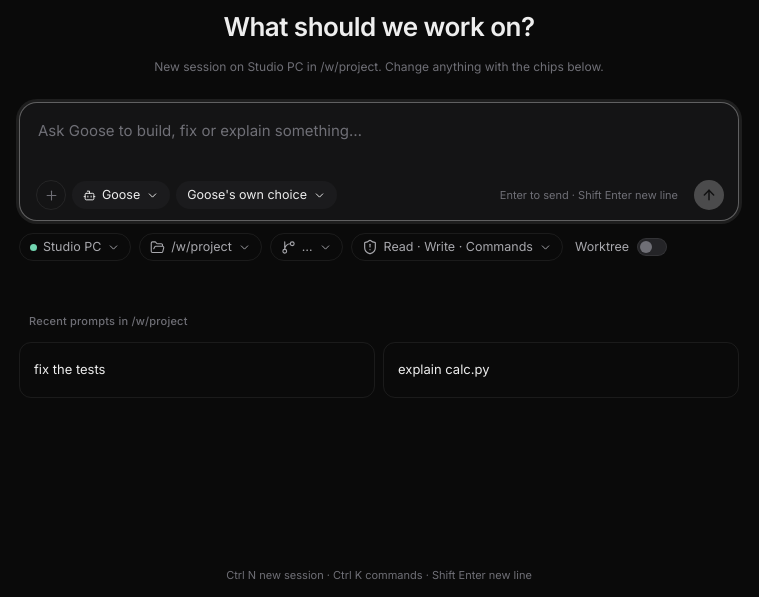
Test case: chips and dropdowns › recent prompts fill the box
What coordinates should you click on to do the following:
click the button "explain calc.py"
I would click on:
 (444, 369)
Its box is [383, 342, 739, 398].
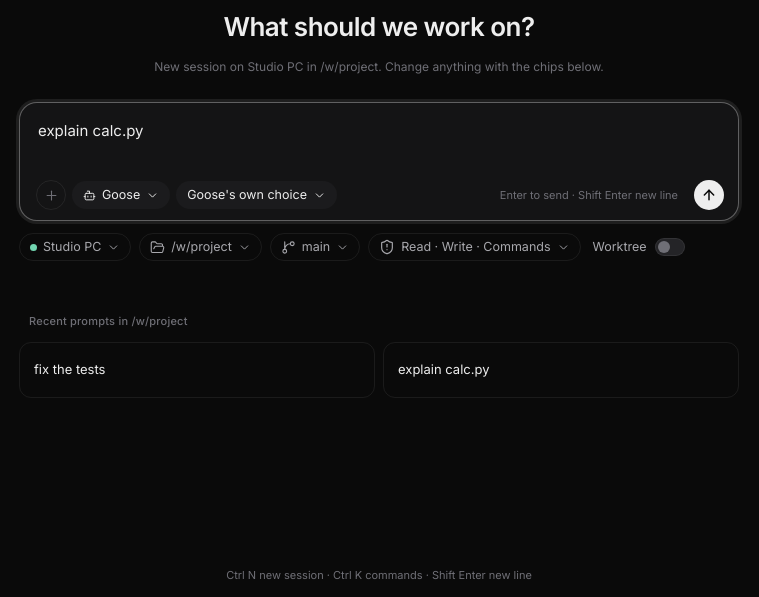
Check: the text box named "Prompt for the new session" holds "explain calc.py", box [36, 117, 724, 169]
